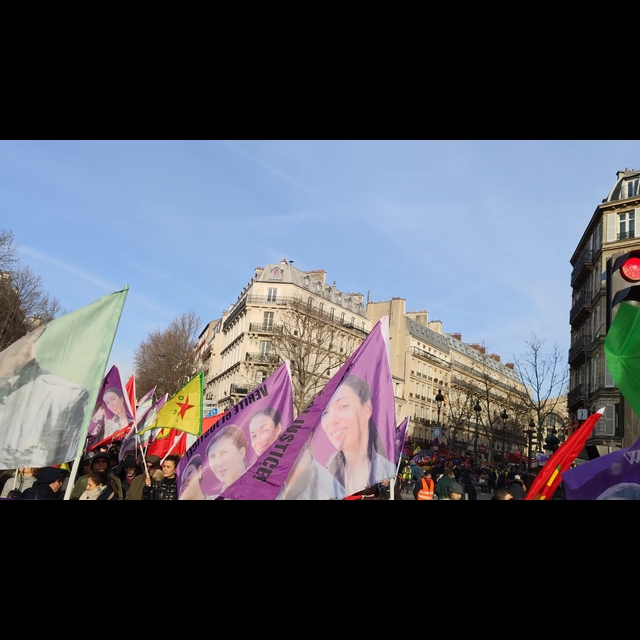YPG: (137, 369, 204, 437)
